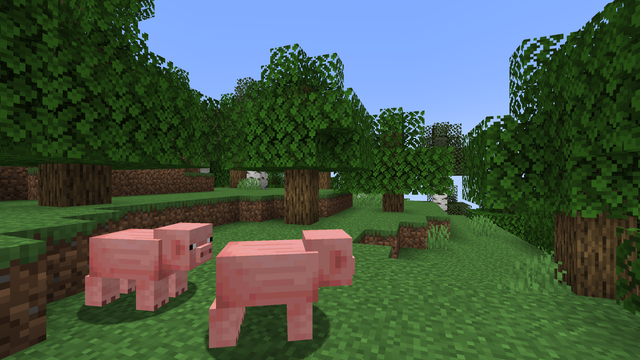cochons: (207, 233, 320, 355), (83, 224, 194, 319)
